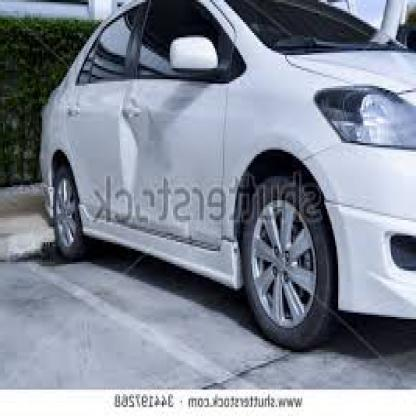dent: (111, 90, 152, 172)
